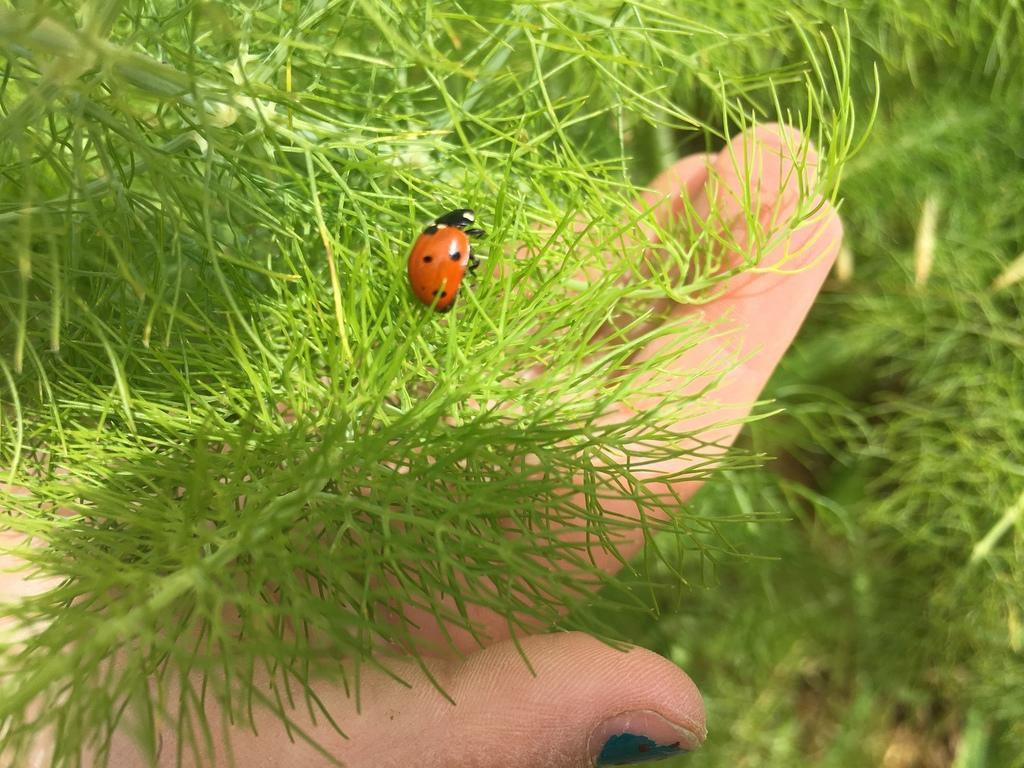ladybug: (405, 205, 491, 319)
